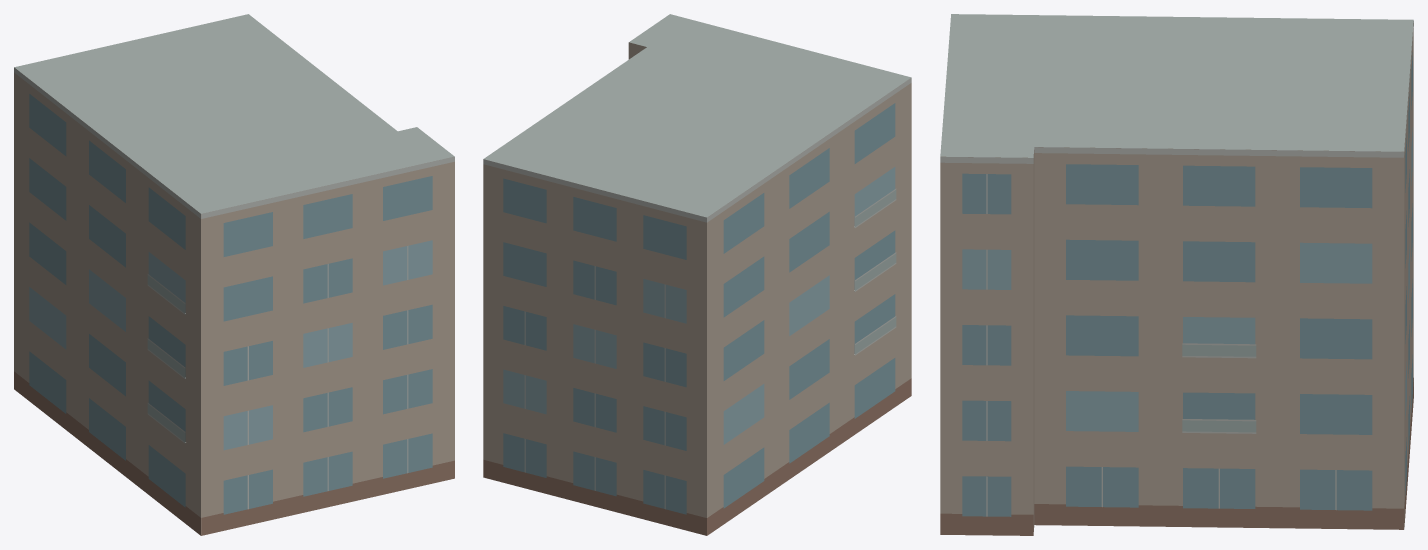
The model's file is survey-upis-32567832.glb.
3 views of the same model, side by side, from view 1: azimuth 30°, elevation 25°; view 2: azimuth 150°, elevation 25°; view 3: azimuth 270°, elevation 25° (orthographic). The views are drawn at different scales.
Parts seen in each view (by area): view 1: survey-upis-32567832.tmp; view 2: survey-upis-32567832.tmp; view 3: survey-upis-32567832.tmp.
Boxes of the visible parts, box(x1,y1,x2,y2) form: survey-upis-32567832.tmp: box(14, 14, 454, 535); survey-upis-32567832.tmp: box(483, 14, 911, 535); survey-upis-32567832.tmp: box(940, 14, 1413, 535).
Bounding box in the file's own units: 12.45 × 15.25 × 17.32.
